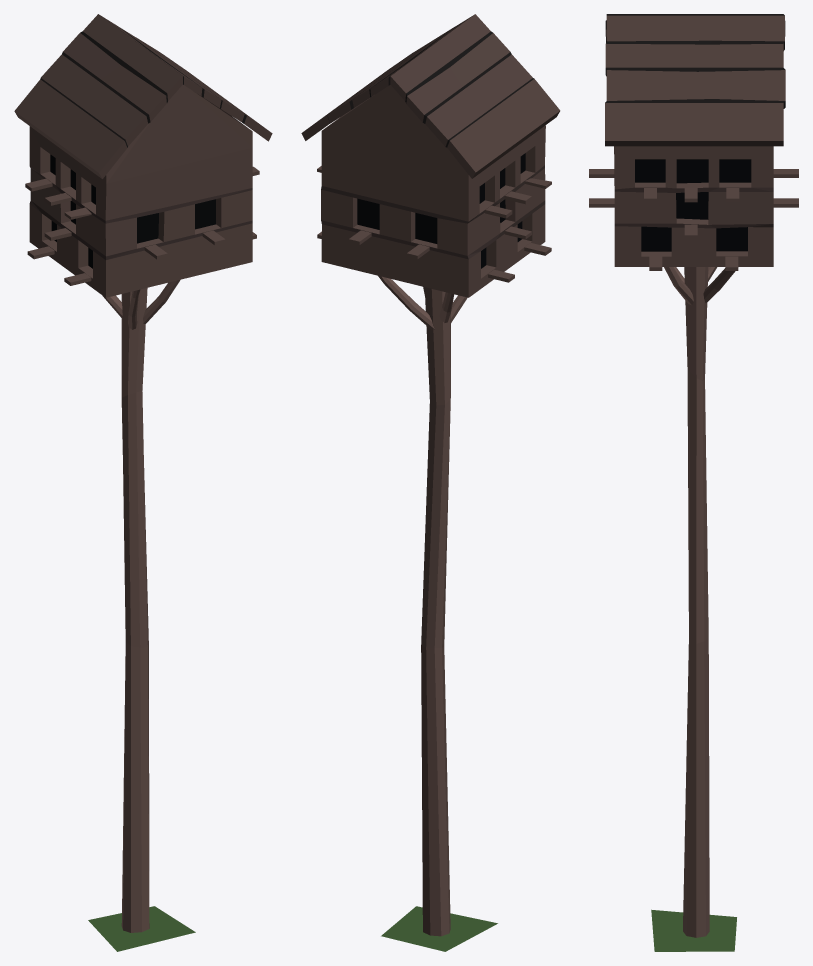
File: SM_Birdhouse.fbx
The picture shows the model from 3 angles, left to right: view 1: azimuth 30°, elevation 25°; view 2: azimuth 150°, elevation 25°; view 3: azimuth 270°, elevation 25°; orthographic projection. The views are drawn at different scales.
Visible parts, largest first — view 1: SM_Birdhouse; view 2: SM_Birdhouse; view 3: SM_Birdhouse.
Part boxes in pixels (x1,y1,x2,y2): SM_Birdhouse: (14,14,272,951); SM_Birdhouse: (301,14,560,951); SM_Birdhouse: (589,14,798,951).
Bounding box in the file's own units: 138 × 617 × 127.
1 material, 1 textured.
